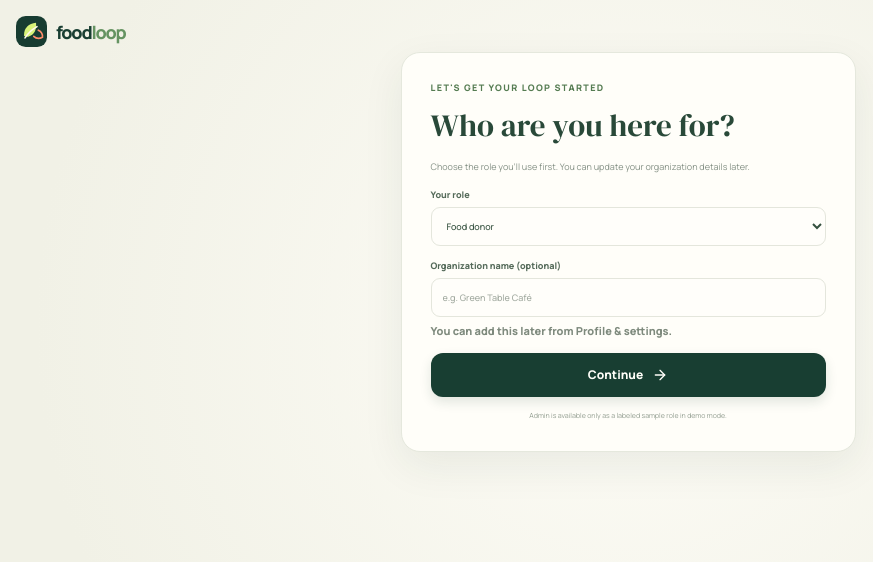
Test: FoodLoop onboarding › shows an accessible inline error when the onboarding API rejects the save
The image size is (873, 562).
Click the button "Continue". click: x=628, y=375
box: [430,353,826,397]
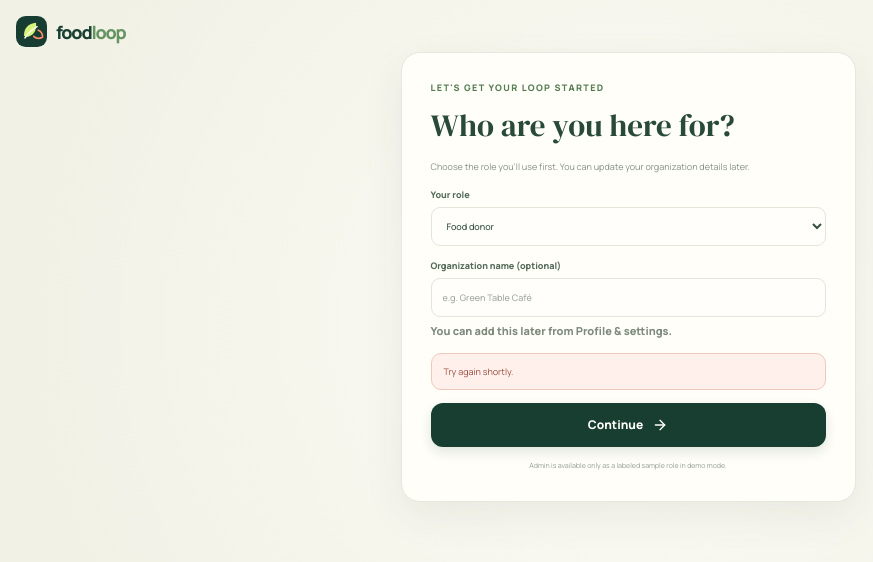
Expected: the message reads "Try again shortly.", [444,365,513,378]
